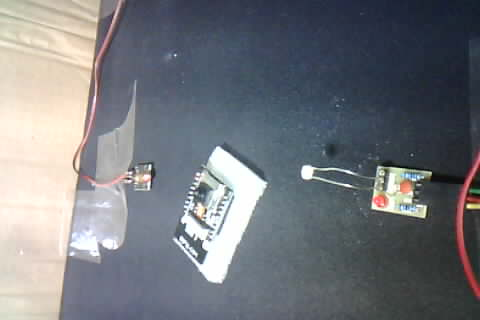esp32: (166, 162, 251, 273)
